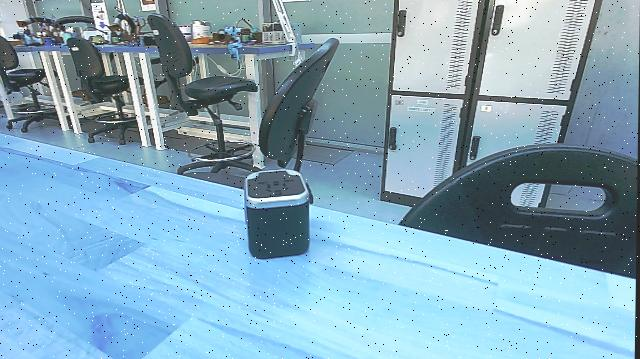adapter: (233, 162, 318, 264)
